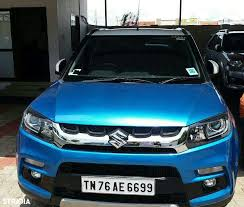T: (83, 178, 90, 189)
